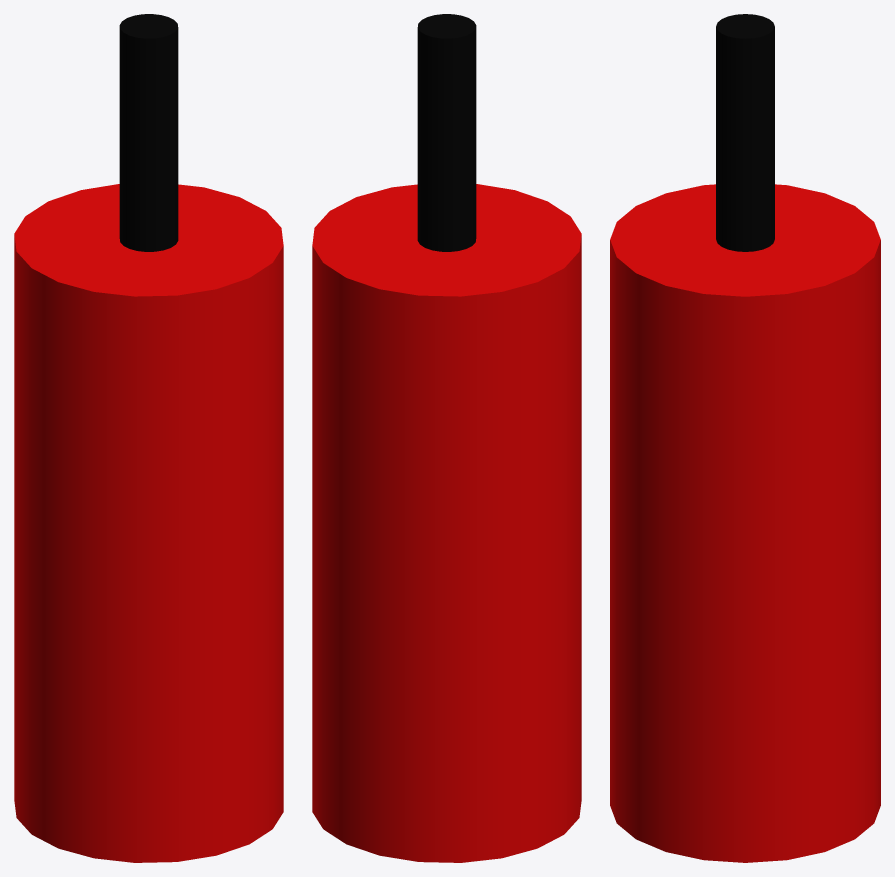
The model's file is diatomite.fbx.
3 renders of one model, left to right at view 1: azimuth 30°, elevation 25°; view 2: azimuth 150°, elevation 25°; view 3: azimuth 270°, elevation 25°, orthographic.
Visible parts, largest first — view 1: diatomite; view 2: diatomite; view 3: diatomite.
Part boxes in pixels (x1,y1,x2,y2): diatomite: (14,14,283,862); diatomite: (312,14,581,862); diatomite: (610,14,880,862).
Bounding box in the file's own units: 0.26 × 0.8259 × 0.26.
